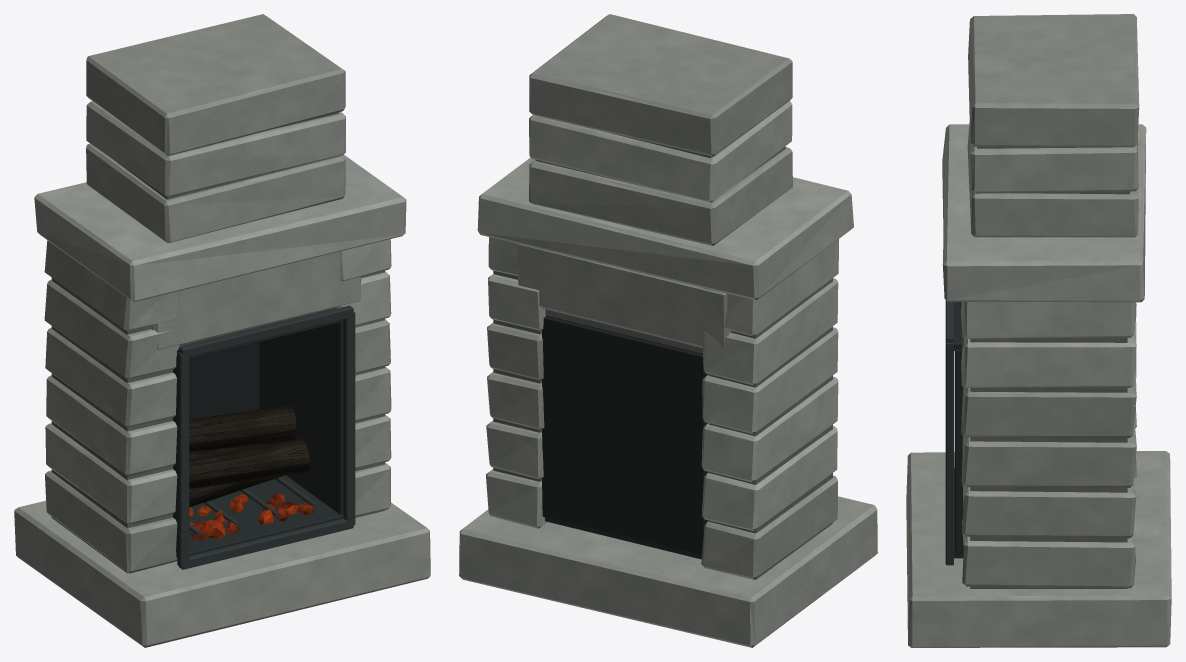
3 renders of one model, left to right at view 1: azimuth 30°, elevation 25°; view 2: azimuth 150°, elevation 25°; view 3: azimuth 270°, elevation 25°, orthographic. The views are drawn at different scales.
Parts seen in each view (by area): view 1: Mesh_stone, Mesh_iron, Mesh_dark, Mesh_ember; view 2: Mesh_stone, Mesh_iron; view 3: Mesh_stone, Mesh_iron.
Part boxes in pixels (box(x1,y1,x2,y2)): Mesh_stone: box(14, 14, 430, 647); Mesh_iron: box(173, 305, 355, 569); Mesh_dark: box(189, 405, 310, 507); Mesh_ember: box(189, 493, 313, 540); Mesh_stone: box(459, 14, 877, 647); Mesh_iron: box(542, 315, 708, 559); Mesh_stone: box(906, 14, 1171, 647); Mesh_iron: box(945, 300, 963, 565).
Bounding box in the file's own units: 1.47 × 2.4 × 1.11.
Materials: 4 (3 with a texture image).
